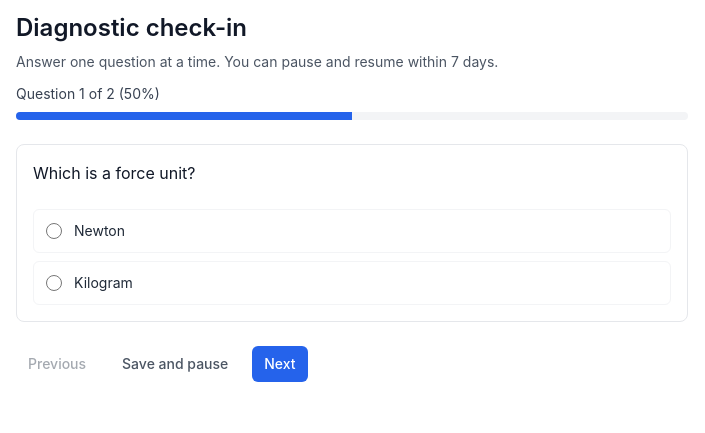
Test: DiagnosticTakingClient (T-105) › completes with focus areas and no grade language
The image size is (705, 433).
Click the radio button labelled "Newton": (54, 231) [46,223,62,239]
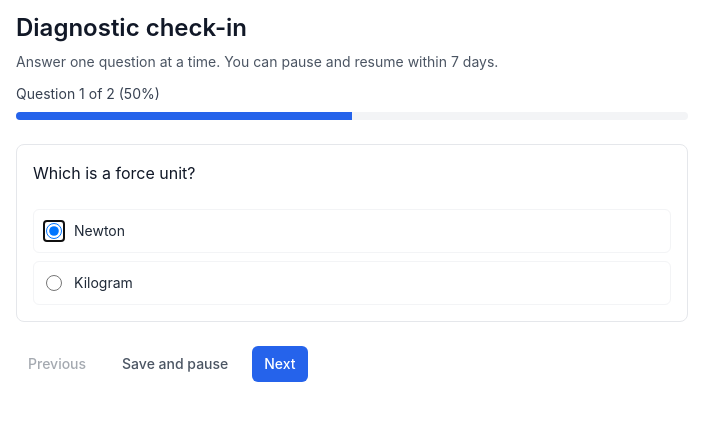
Click the button "Next": (280, 364) [252,346,308,382]
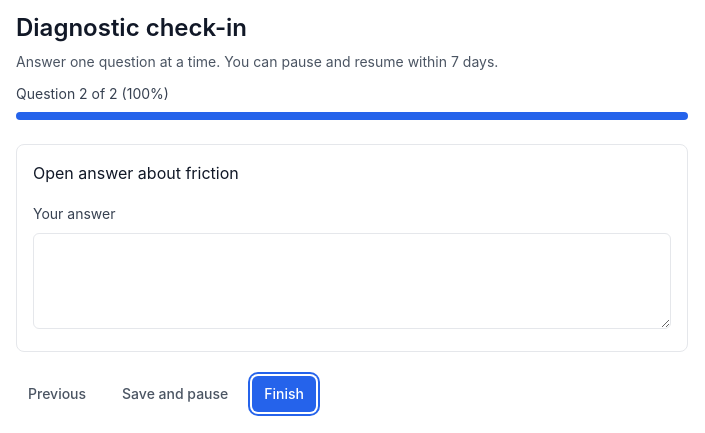
Click the button "Finish": (284, 394) [252,376,316,412]
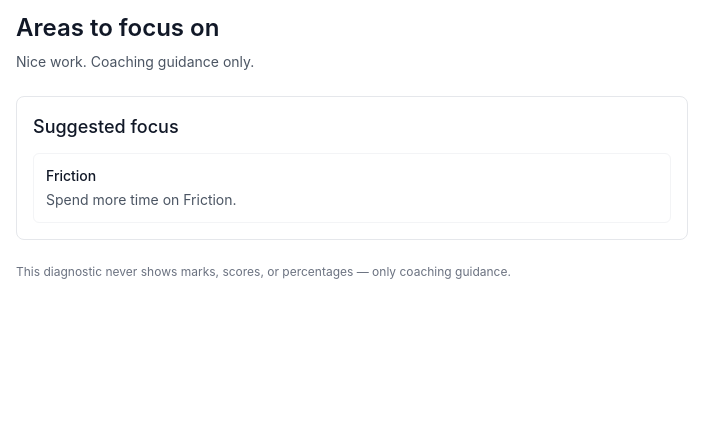
Expected: the element with test id "diagnostic-results" is shown, [16,12,688,280]
Expected: the heading "Areas to focus on" is shown, [16,13,219,42]
Expected: the text "Spend more time on Friction." is shown, [46,191,237,208]
